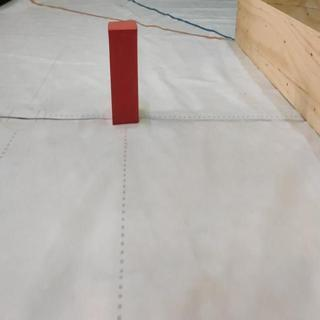redbox: (107, 19, 139, 126)
